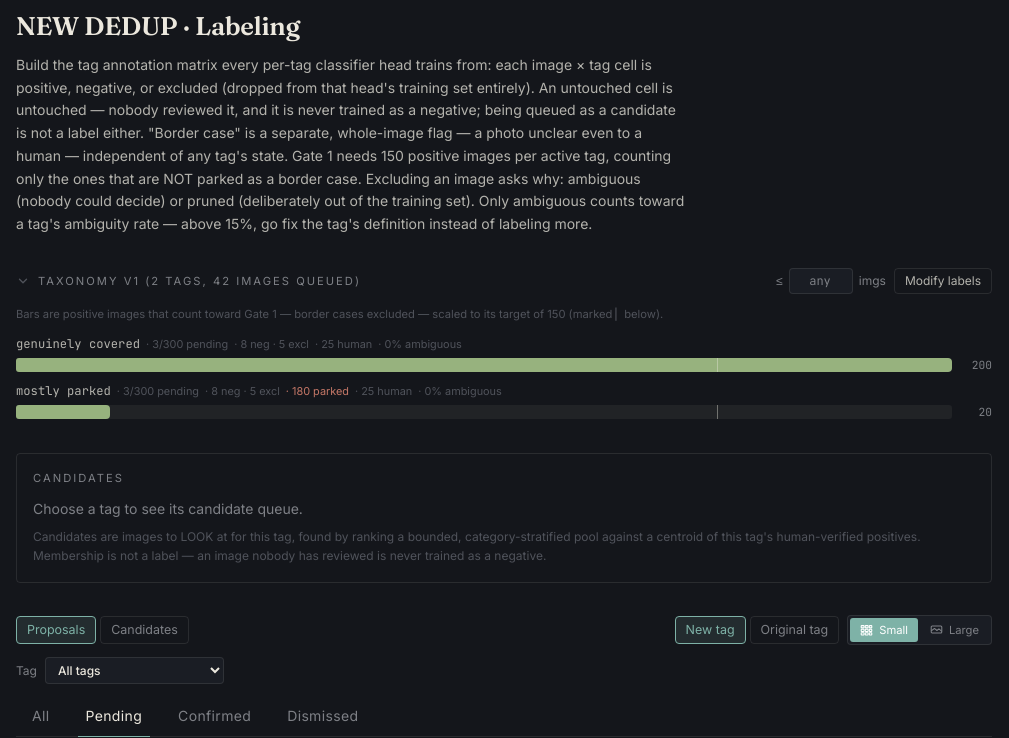
Test: <NewDedupLabeling> › narrows the coverage ceiling by the gate count, not the raw positive total
Expected: the button "genuinely covered" is shown, [16, 335, 140, 353]
Type "50" into the number field named "Max training images per tag".
click(821, 281); type("50")  # box [789, 268, 853, 294]
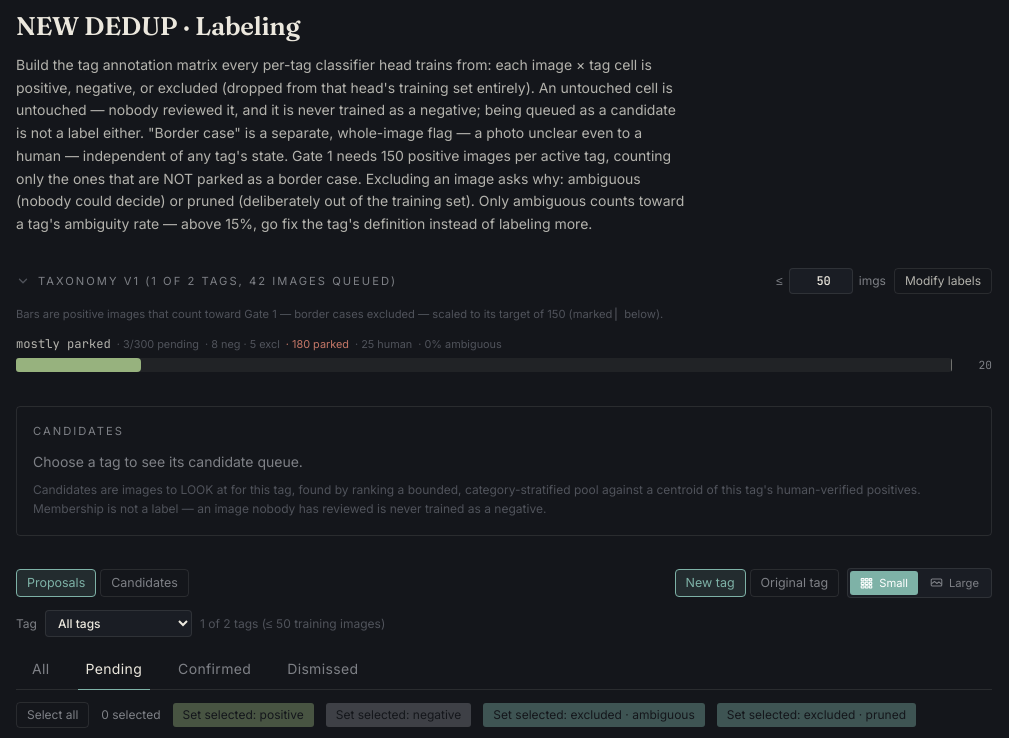
Expected: the button "mostly parked" is shown, [16, 335, 111, 353]
Result: the button "genuinely covered" is gone
